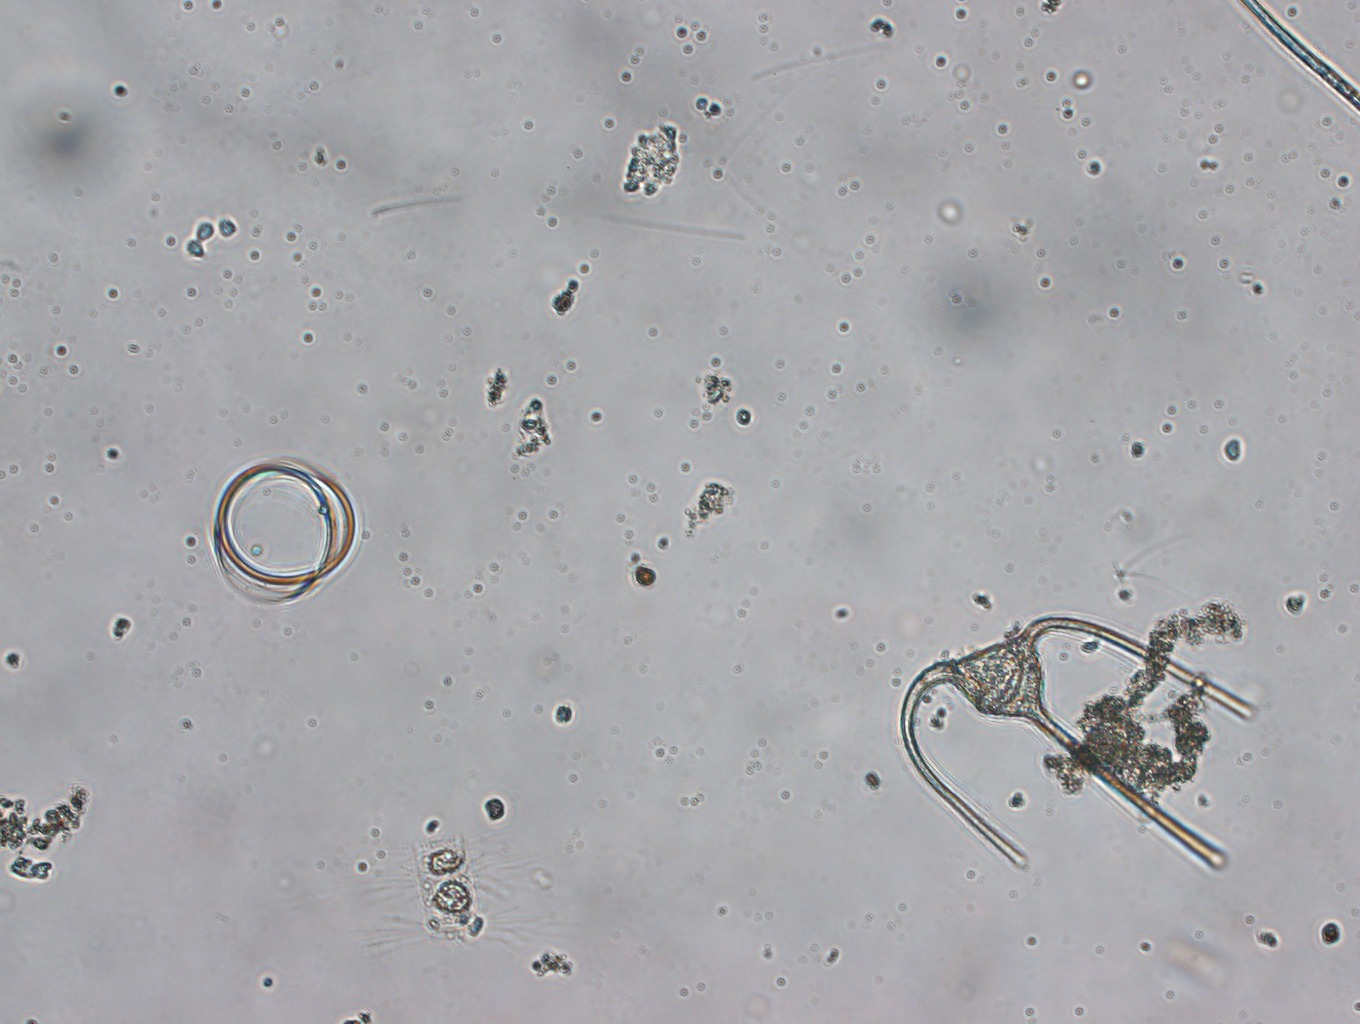ceratium tripos: (900, 598, 1259, 900)
